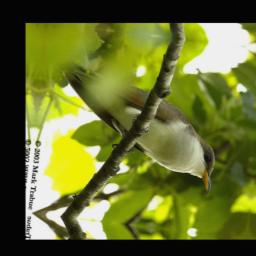Cuckoo: (47, 57, 226, 197)
